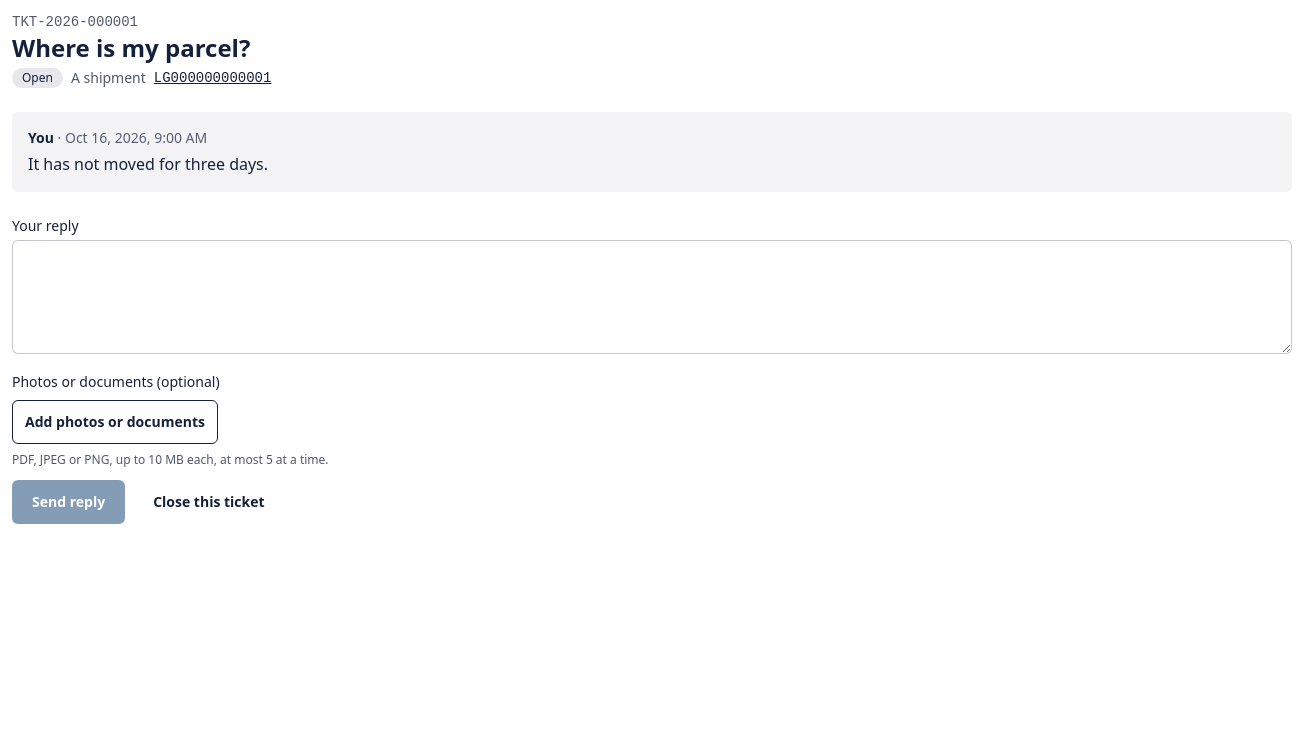
TicketThread › asks before closing, and then closes
Click the button "Close this ticket". click: [209, 502]
box: [133,480,285,524]
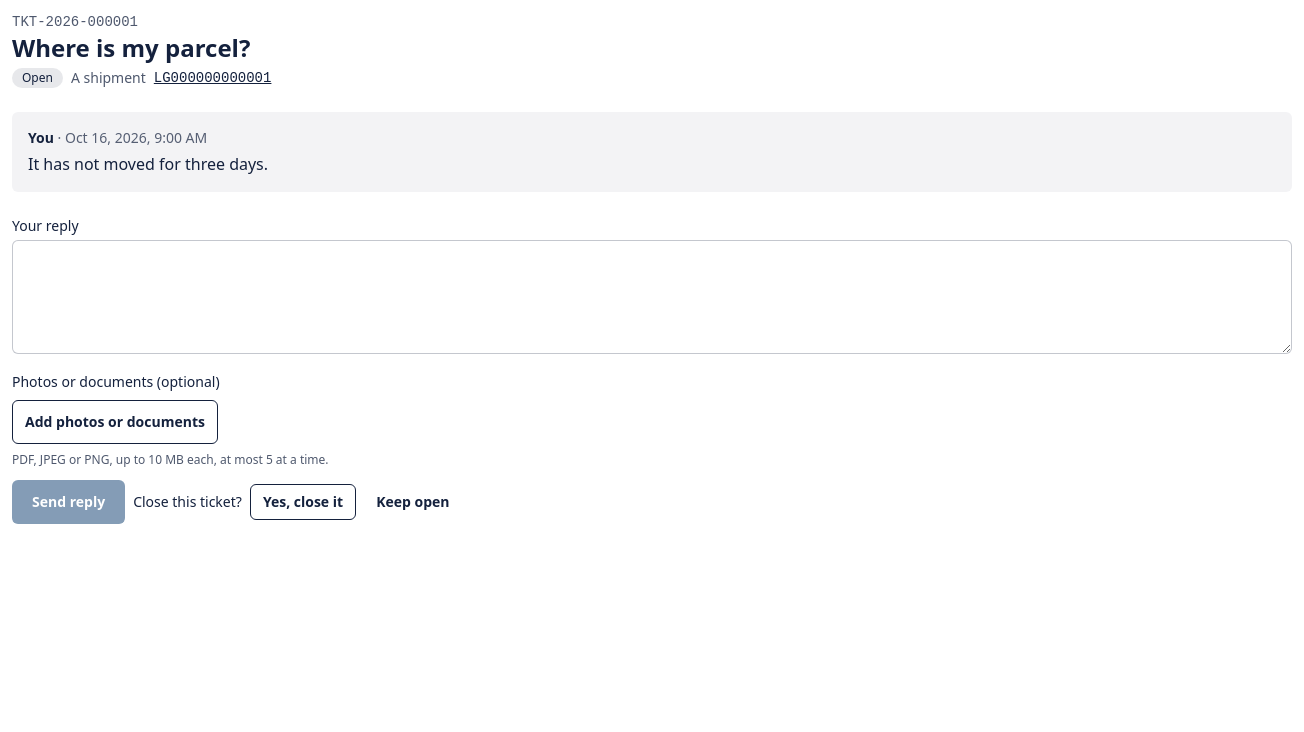
Click the button "Yes, close it". click: [303, 502]
box: [250,484,356,520]
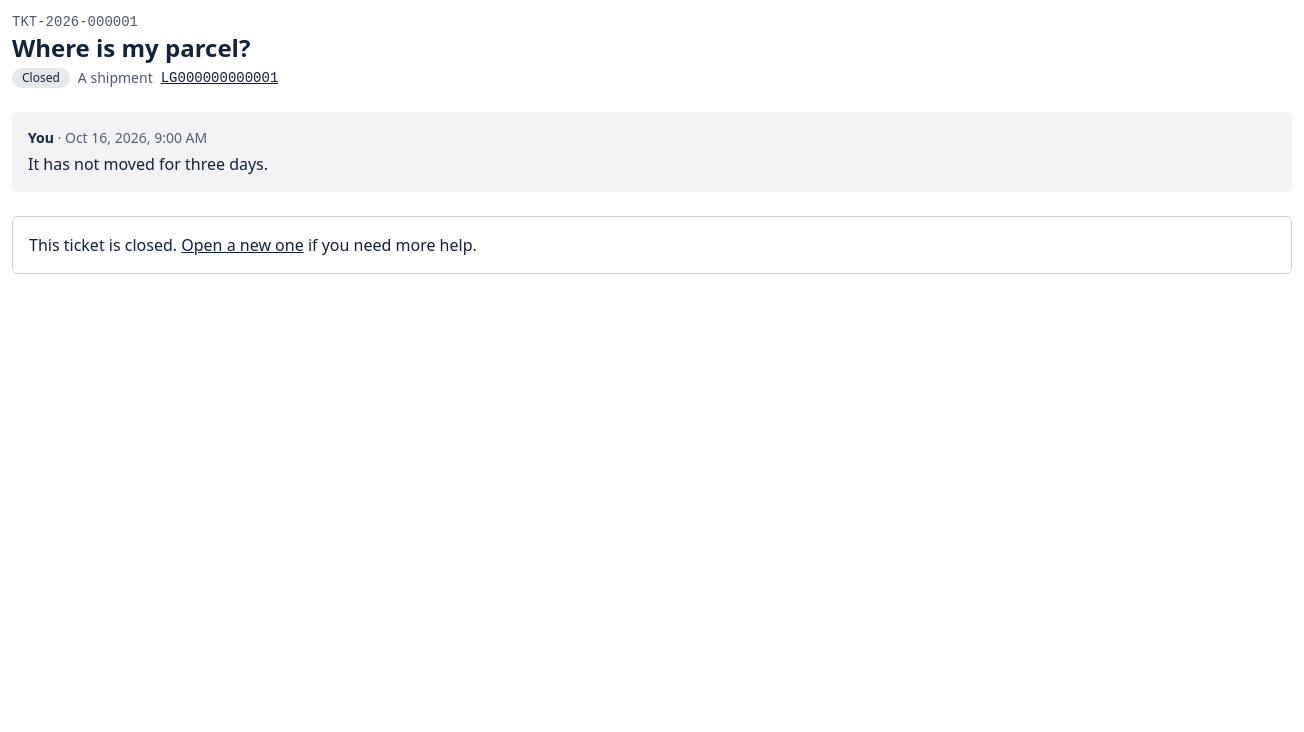
Expected: the text "This ticket is closed. Open a new one if you need more help." is shown, [12,216,1292,274]
Expected: the label labelled "Your reply" is gone
